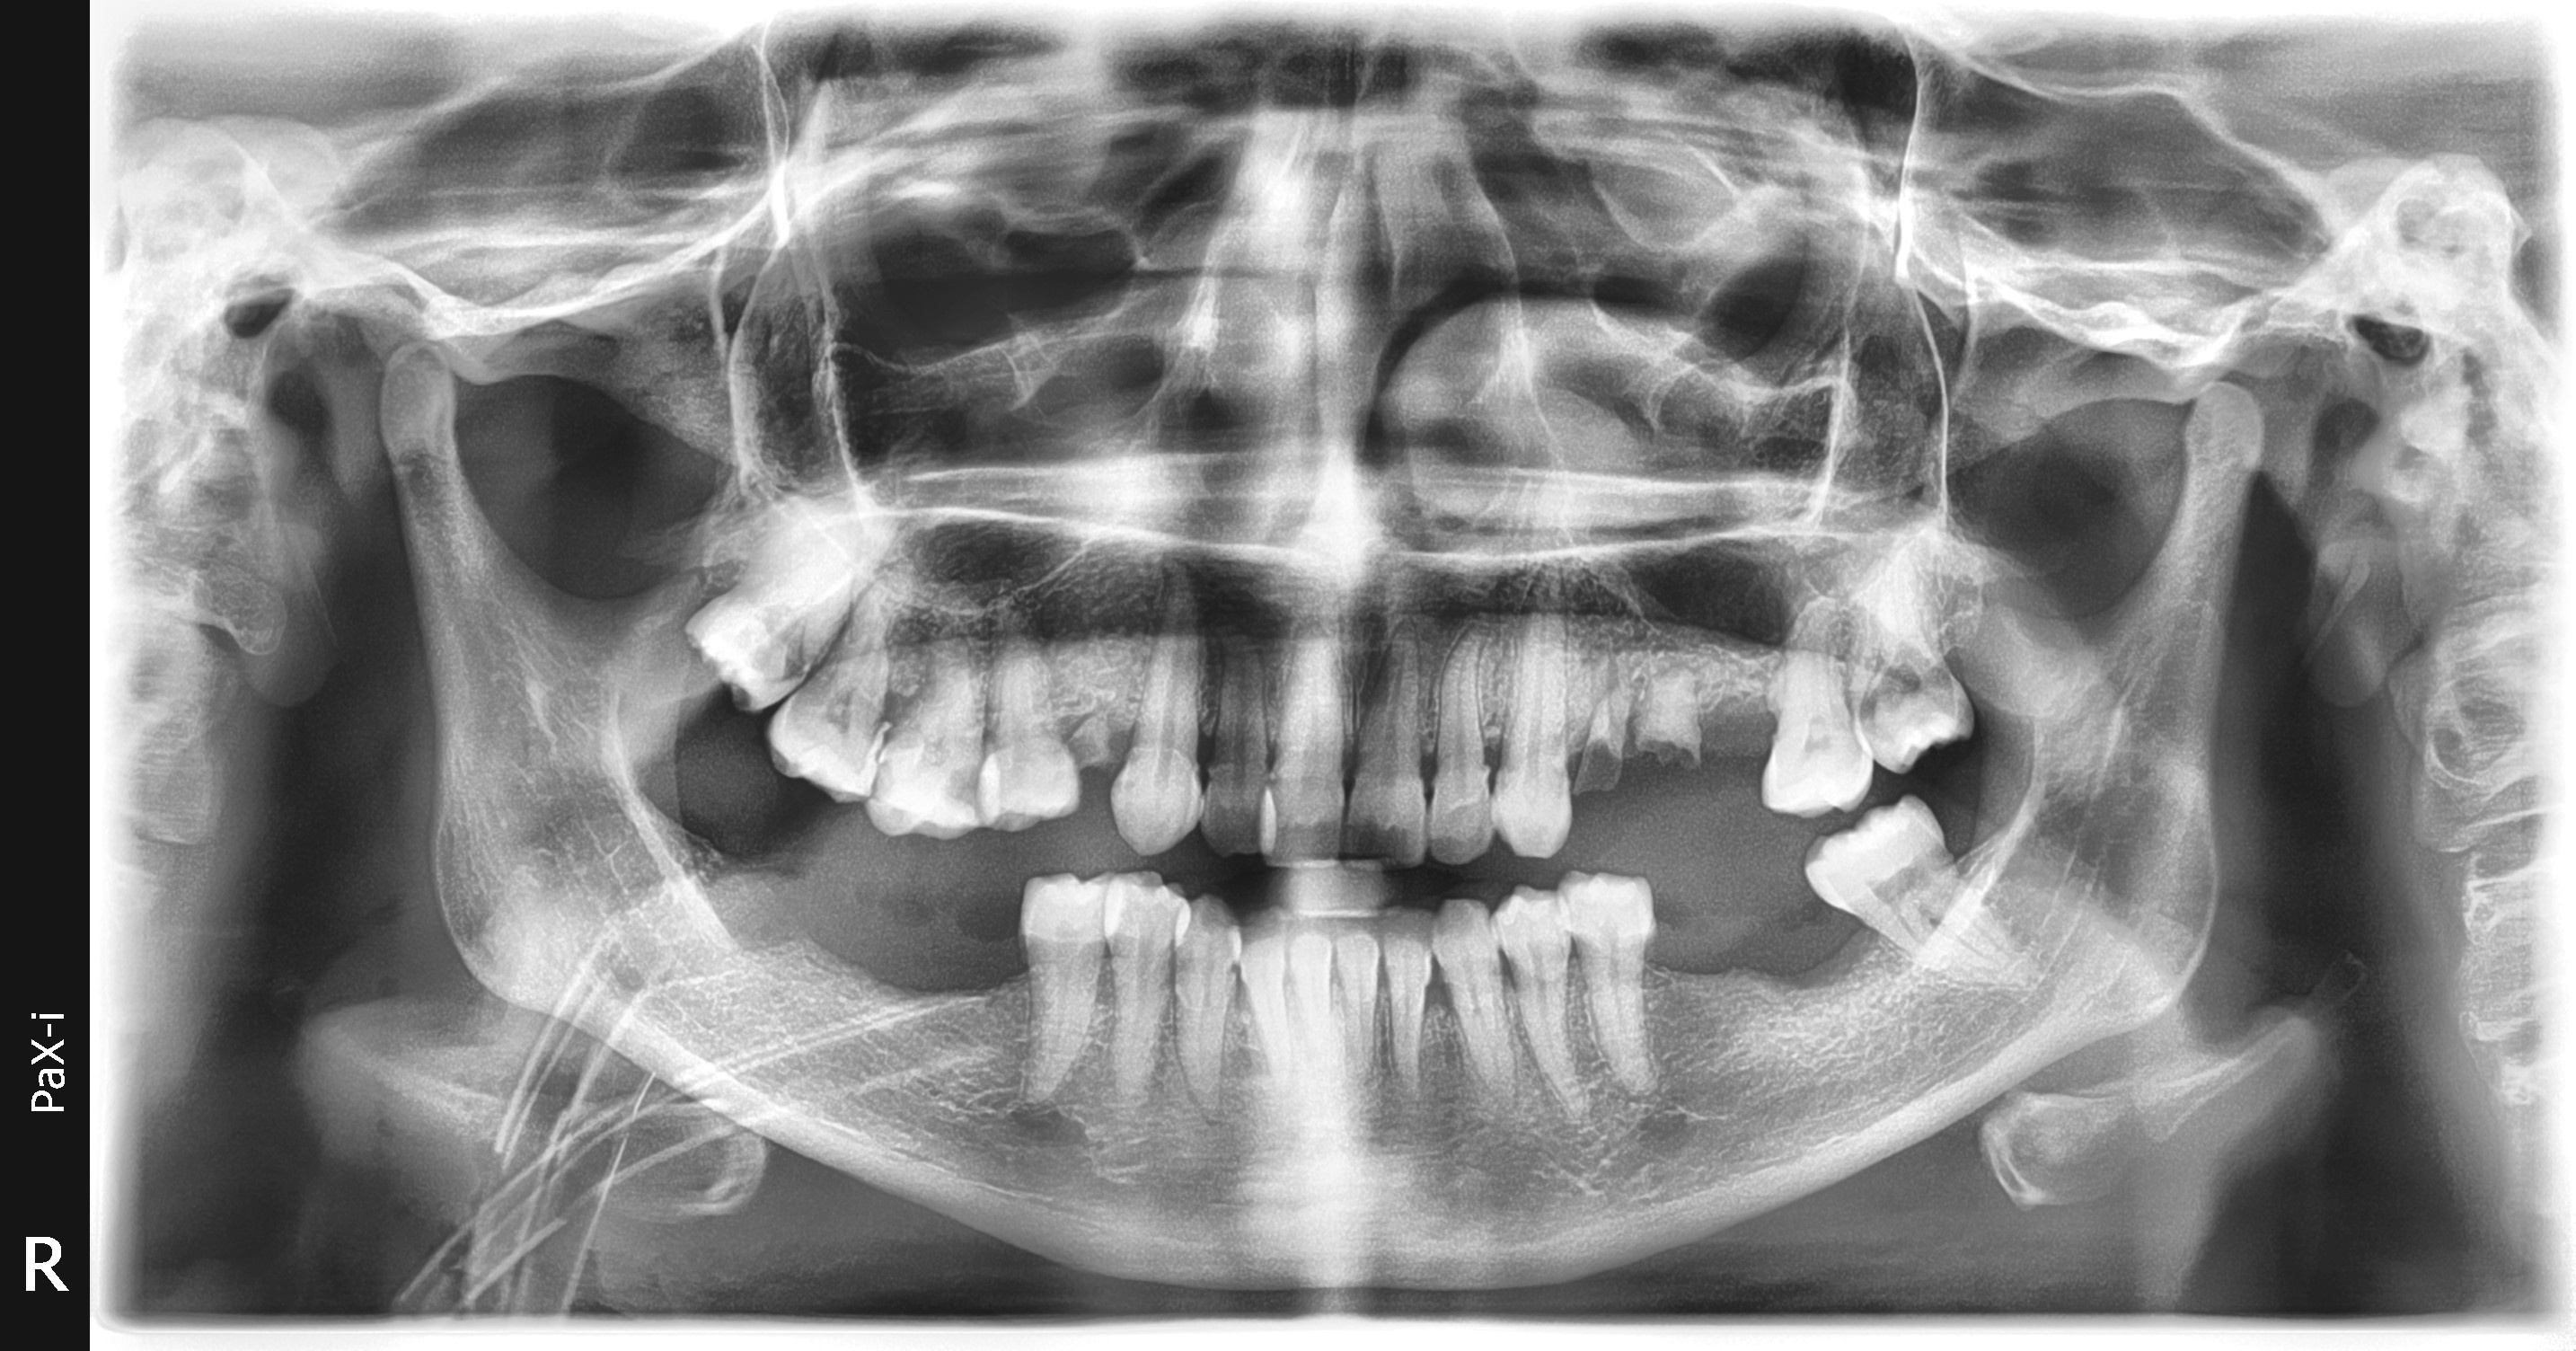CAR: (424, 359, 1319, 1160)
ROT: (509, 320, 1624, 1092)
